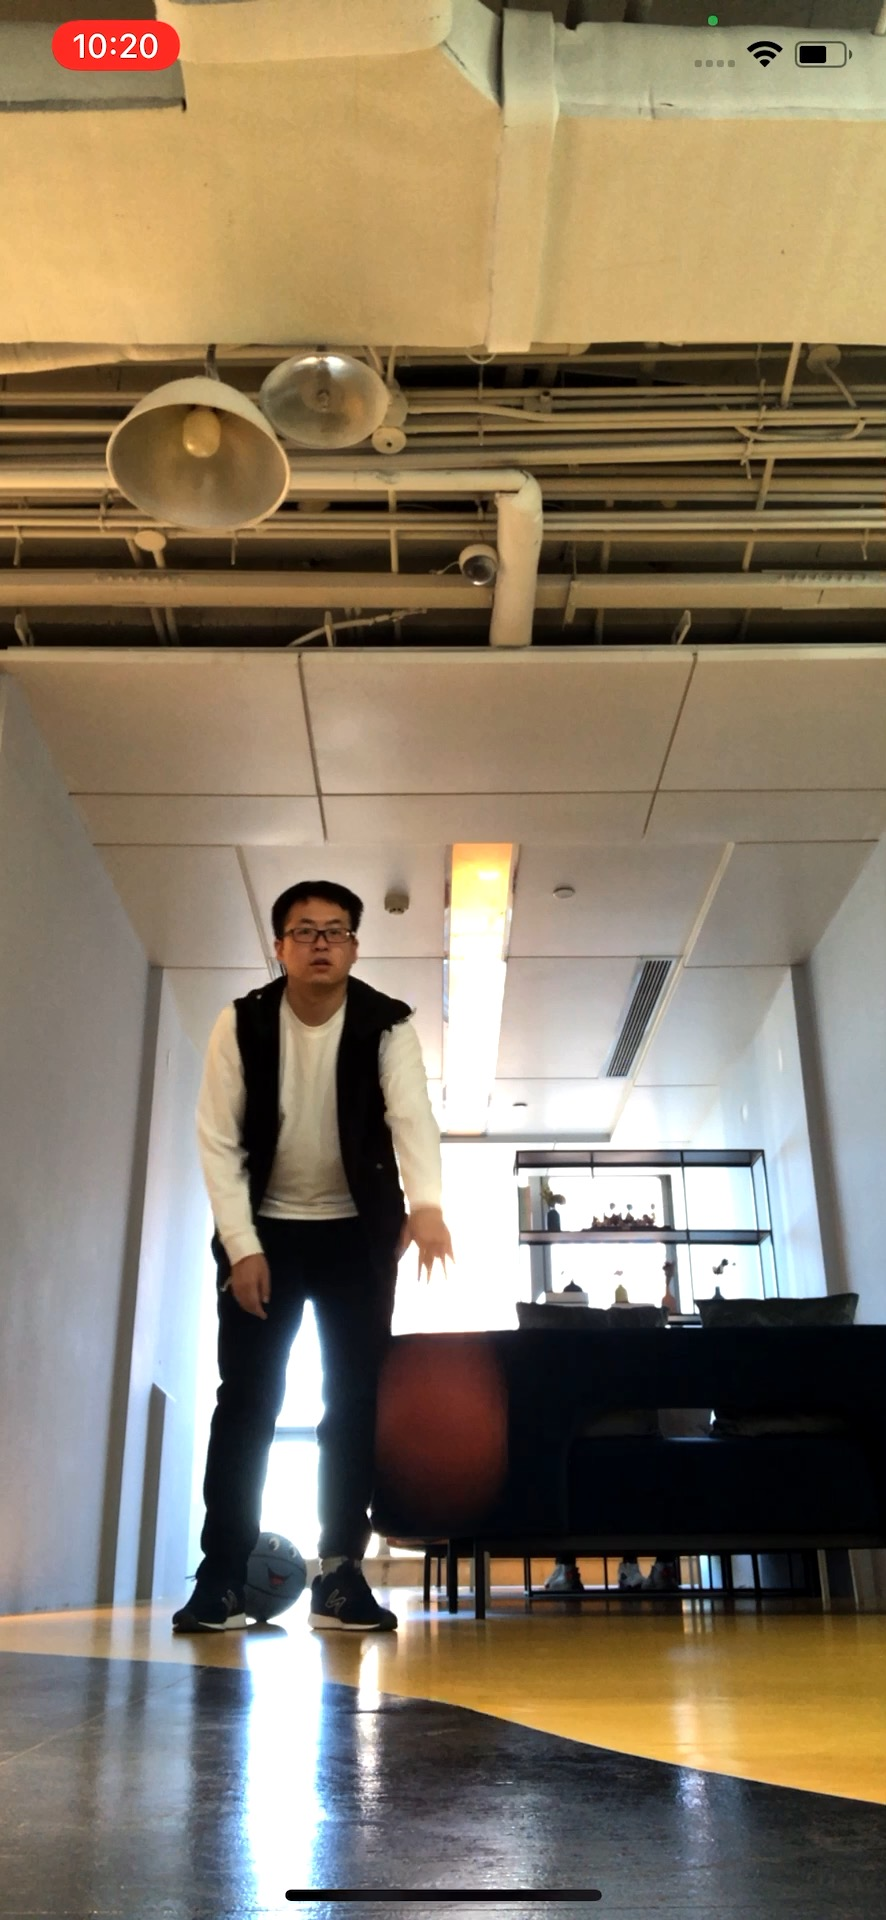ball: (372, 1347, 508, 1487)
